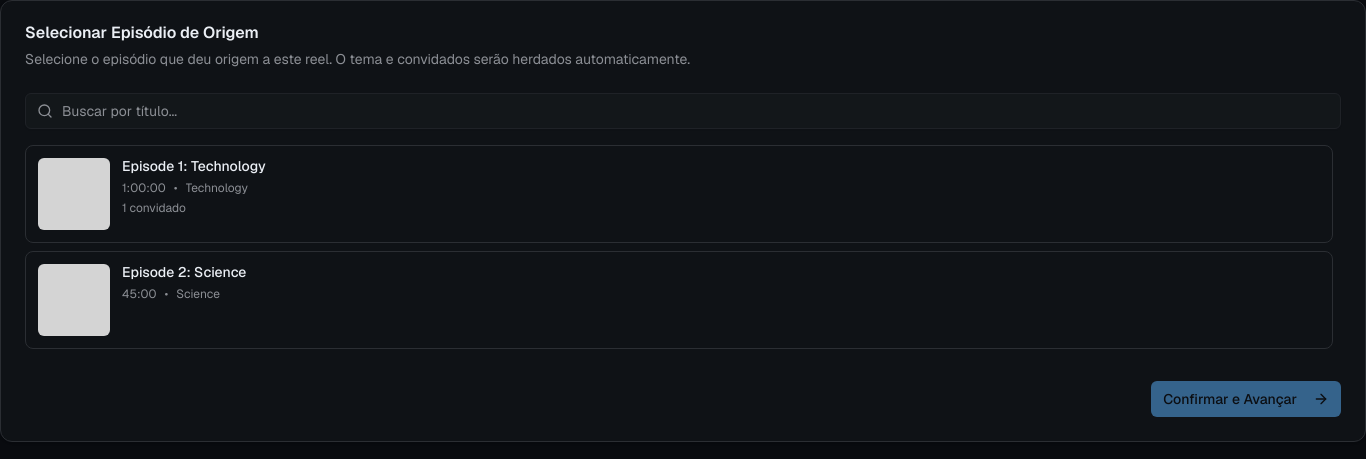
it: Phase0ParentSelection › Episode selection › selects episode when clicked
Click the button "Episode 1: Technology" at (74, 194), box [25,145,1333,243]
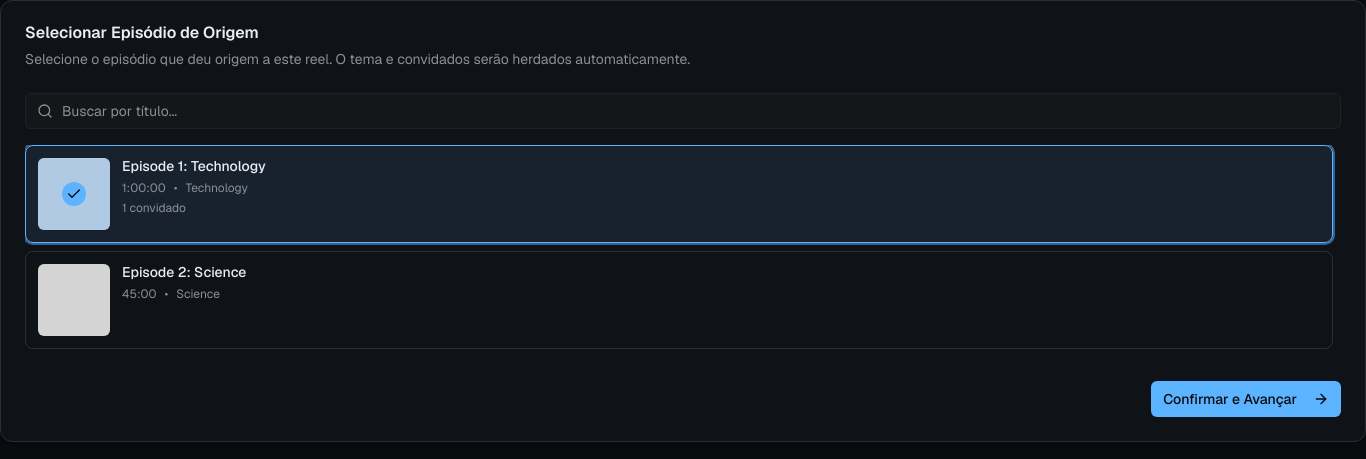
Now the button "Confirmar e Avançar" is enabled, box [1151,381,1341,417]
